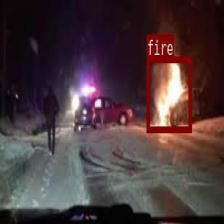fire: (146, 56, 192, 131)
